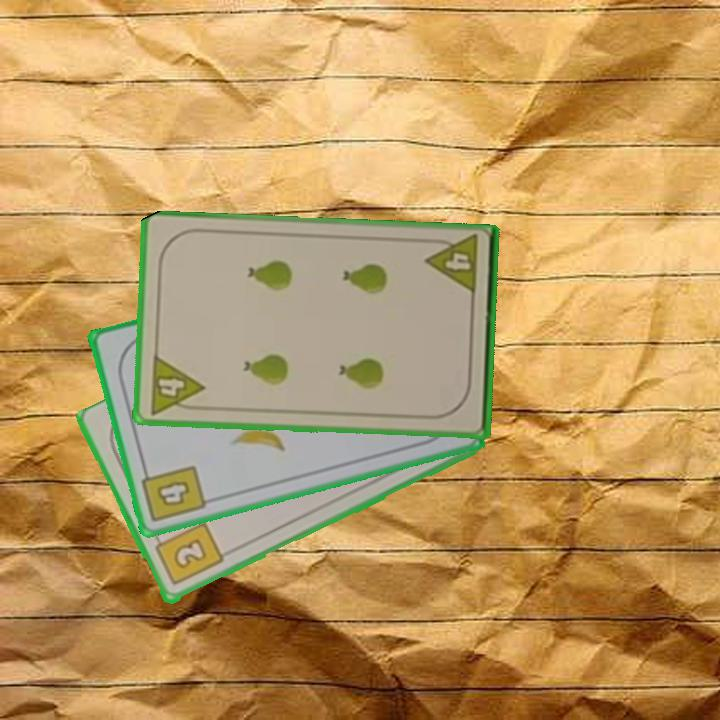2b: (150, 519, 226, 589)
4b: (138, 462, 209, 526)
4p: (146, 352, 207, 417), (423, 233, 481, 298)
